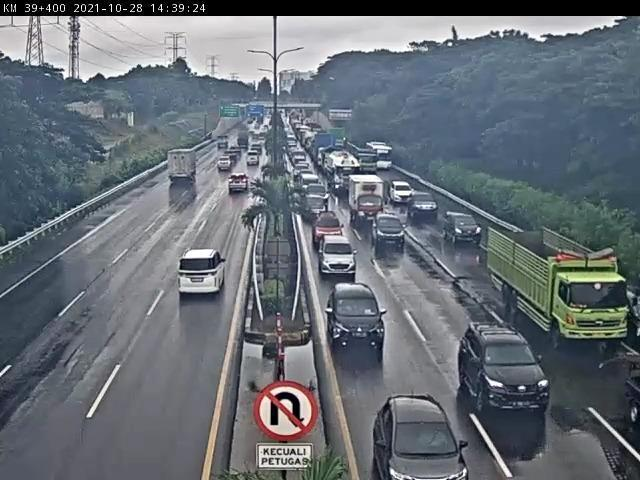car: (372, 399, 471, 480), (460, 326, 547, 409), (325, 282, 386, 350), (177, 250, 227, 298), (318, 237, 361, 281), (442, 214, 482, 249), (372, 214, 404, 245), (409, 193, 442, 221), (310, 206, 340, 236), (304, 184, 331, 204), (303, 194, 325, 217), (229, 175, 250, 196), (217, 156, 234, 175)
truck: (489, 231, 629, 343), (349, 178, 386, 225), (166, 150, 200, 189)
